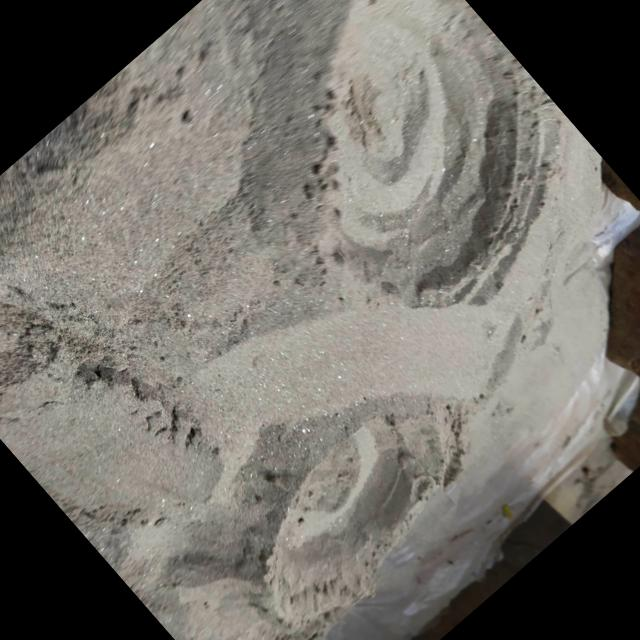C20: (328, 0, 554, 306), (269, 421, 415, 623)
